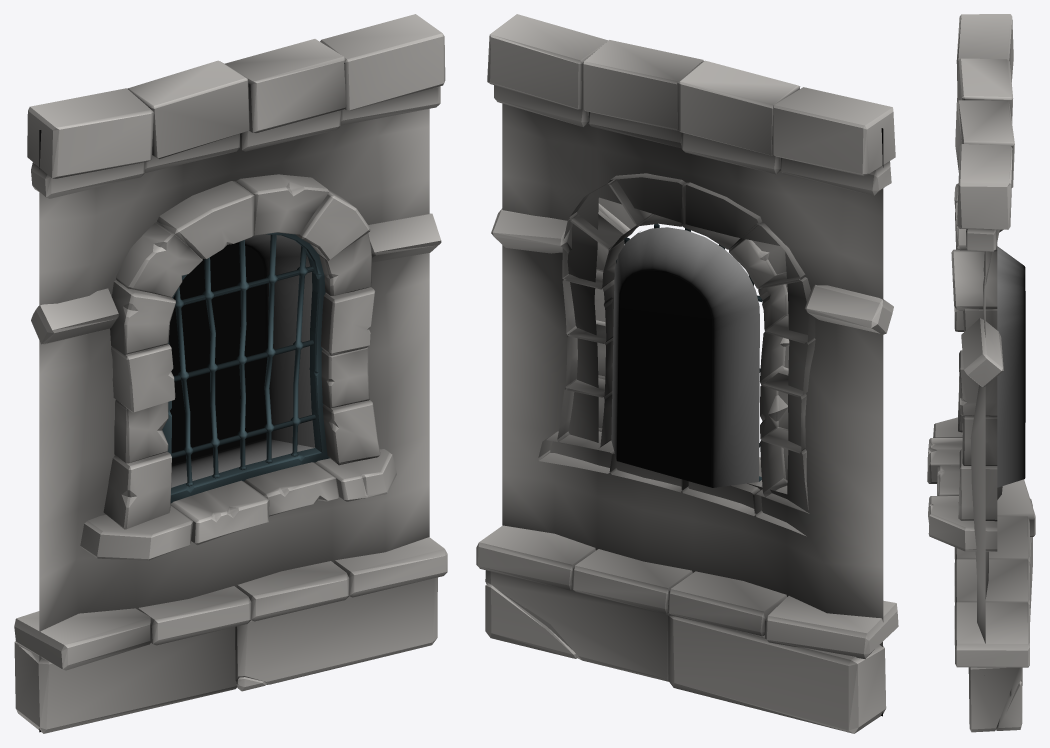
File: wall_window_C.FBX
3 renders of one model, left to right at view 1: azimuth 30°, elevation 25°; view 2: azimuth 150°, elevation 25°; view 3: azimuth 270°, elevation 25°, orthographic. The views are drawn at different scales.
Parts seen in each view (by area): view 1: wall_window_C; view 2: wall_window_C; view 3: wall_window_C.
Boxes of the visible parts, x1=… form: wall_window_C: x1=14, y1=14, x2=447, y2=733; wall_window_C: x1=476, y1=14, x2=898, y2=733; wall_window_C: x1=927, y1=14, x2=1035, y2=732.
Bounding box in the file's own units: 4.1 × 6.04 × 1.07.
